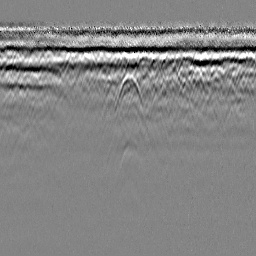cavity: (112, 70, 144, 113)
